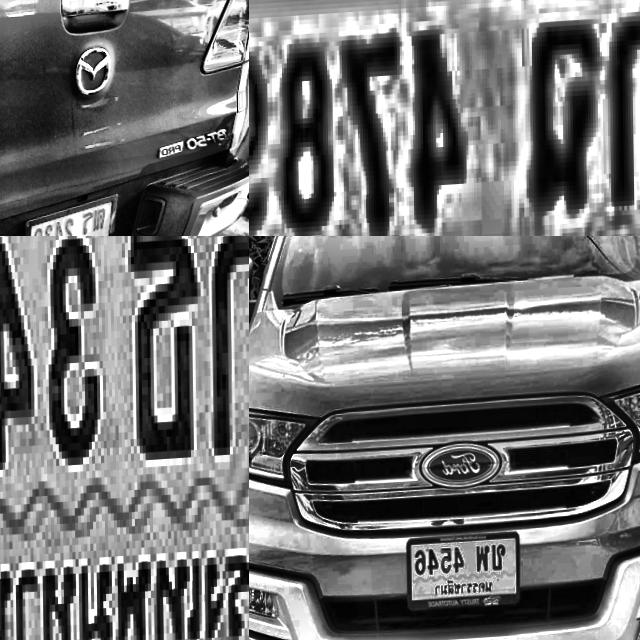license-plate: (0, 236, 249, 640), (249, 0, 640, 236), (403, 533, 520, 617), (14, 195, 119, 236)
